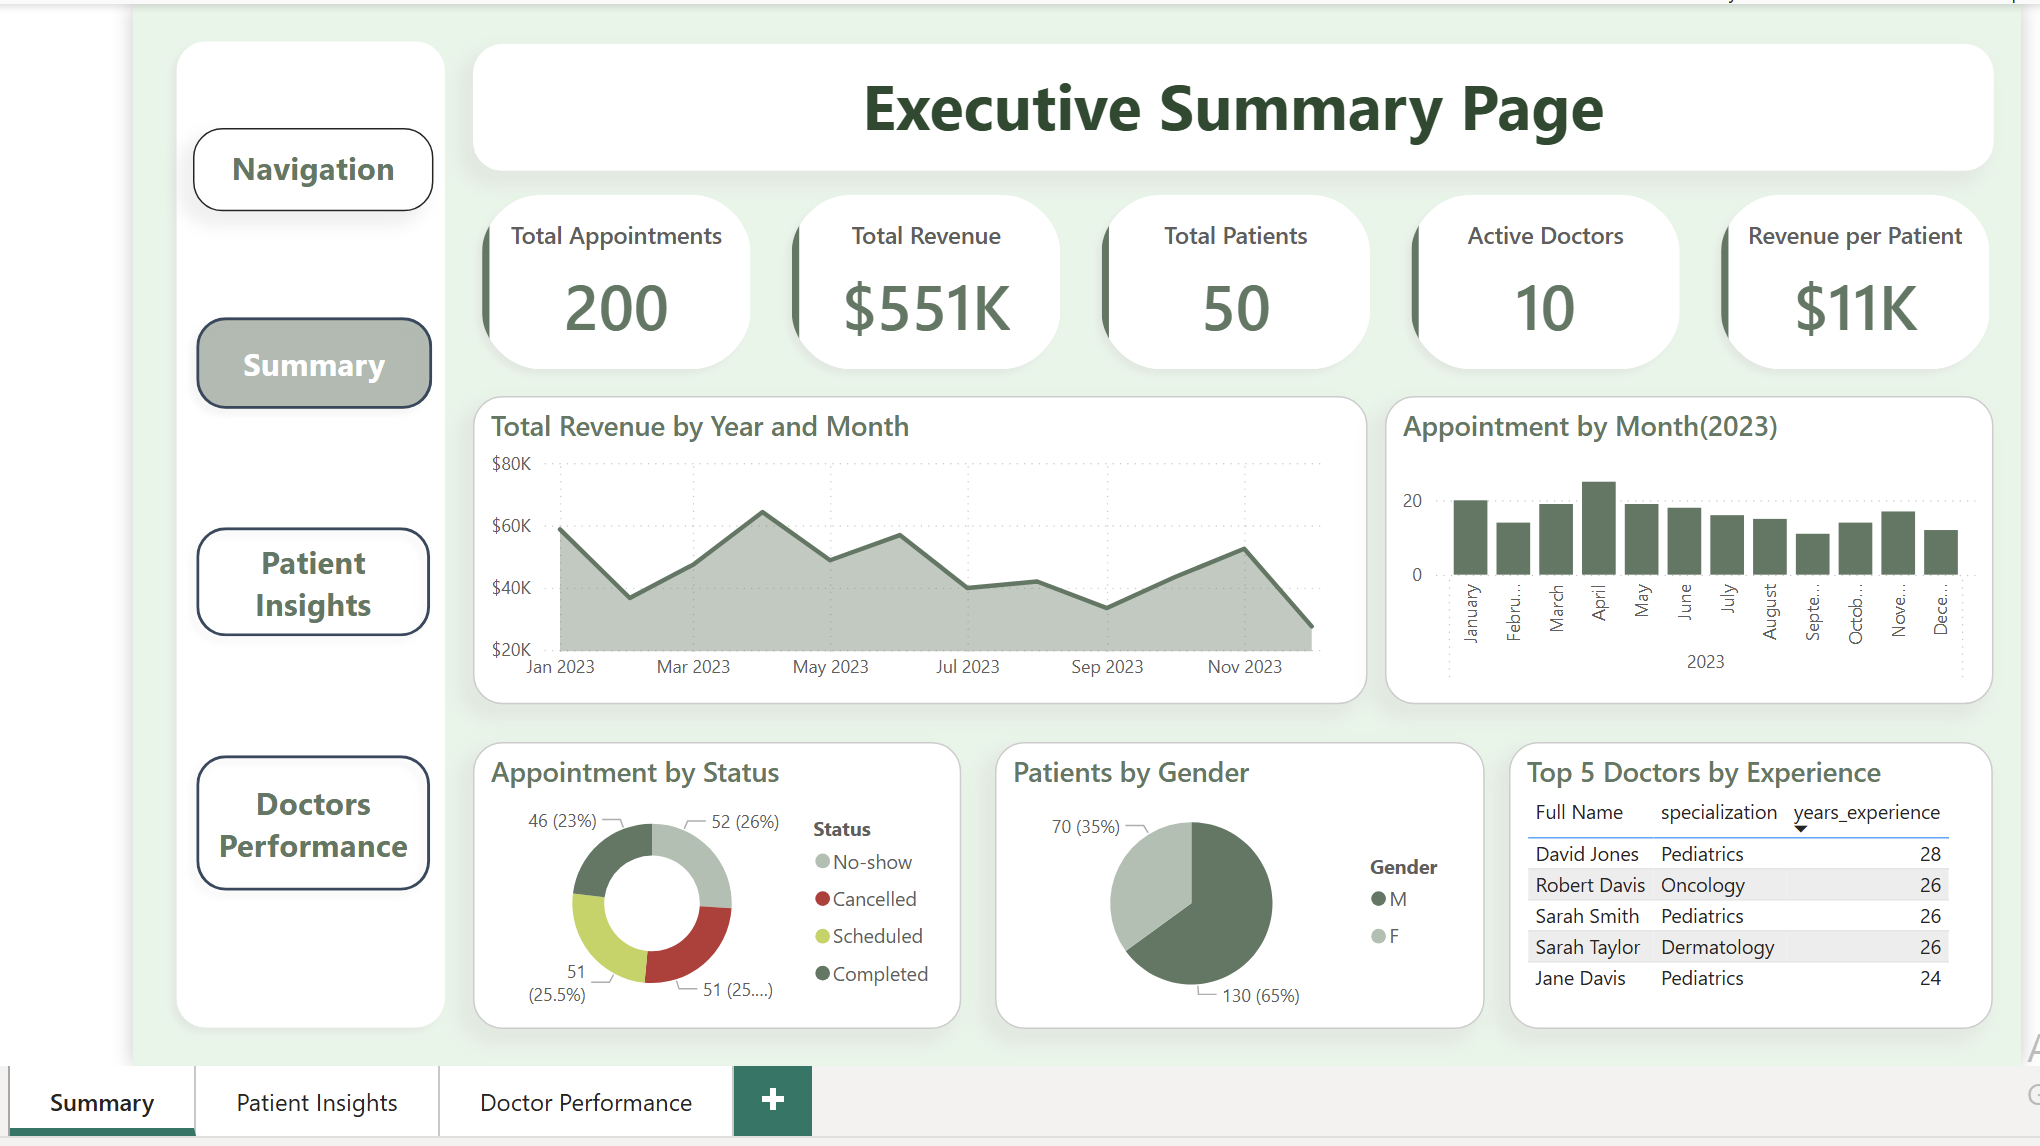

The dashboard page shown, as its layout file describes it:
{"tool":"powerbi","page":{"name":"Summary","canvas":[1280,720],"ordinal":0},"visuals":[{"type":"shape","box":[20.8,16.3,200.2,686.7],"z":0},{"type":"textbox","box":[229.9,26.7,1030.8,86],"z":1000},{"type":"textbox","box":[40.8,84.5,163.2,56.4],"z":2000},{"type":"actionButton","title":"Summary","box":[33.4,203.2,178,80.1],"z":3000},{"type":"actionButton","title":"Summary","box":[34.1,345.6,176.5,92],"z":4000},{"type":"actionButton","title":"Summary","box":[34.1,499.8,176.5,109.8],"z":5000},{"type":"cardVisual","fields":{"Data":["All Measures.Total Appointments","All Measures.Total Revenue","All Measures.Total Patient","All Measures.Active Doctors","All Measures.Avg RevenuePerPatient"]},"box":[219.5,112.7,1060.5,152.8],"z":8000},{"type":"stackedAreaChart","title":"Total Revenue by Year and Month","fields":{"Category":["billing.bill_date.Variation.Date Hierarchy.Year","billing.bill_date.Variation.Date Hierarchy.Month"],"Y":["All Measures.Total Revenue"]},"box":[229.9,265.5,606.6,209.1],"z":9000},{"type":"pieChart","title":"Patients by Gender","fields":{"Y":["appointments.patient_id"],"Category":["patients.gender"]},"box":[584.4,499.8,332.2,194.3],"z":10000},{"type":"donutChart","title":"Appointment by Status","fields":{"Y":["appointments.appointment_id"],"Category":["appointments.status"]},"box":[229.9,499.8,330.8,194.3],"z":11000},{"type":"columnChart","title":"Appointment by Month(2023)","fields":{"Y":["appointments.appointment_id"],"Category":["appointments.appointment_date.Variation.Date Hierarchy.Year","appointments.appointment_date.Variation.Date Hierarchy.Month"]},"box":[848.4,265.5,412.3,209.1],"z":12000},{"type":"tableEx","title":"Top 5 Doctors by Experience","fields":{"Values":["doctors.Full Name","doctors.specialization","doctors.years_experience"]},"box":[932.9,499.8,327.8,194.3],"z":13000}]}

Visuals, with their boxes on the page's 1280x720 design canvas (x1, y1, x2, y2). These are canvas units, not pixel positions in the 2040x1146 screenshot, which may show the page scaled, cropped or inside an application window:
shape: region(21, 16, 221, 703)
textbox: region(230, 27, 1261, 113)
textbox: region(41, 84, 204, 141)
"Summary" actionButton: region(33, 203, 211, 283)
"Summary" actionButton: region(34, 346, 211, 438)
"Summary" actionButton: region(34, 500, 211, 610)
cardVisual - All Measures.Total Appointments x All Measures.Total Revenue: region(220, 113, 1280, 266)
"Total Revenue by Year and Month" stackedAreaChart: region(230, 266, 836, 475)
"Patients by Gender" pieChart: region(584, 500, 917, 694)
"Appointment by Status" donutChart: region(230, 500, 561, 694)
"Appointment by Month(2023)" columnChart: region(848, 266, 1261, 475)
"Top 5 Doctors by Experience" tableEx: region(933, 500, 1261, 694)
